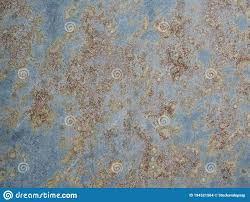rust: (41, 40, 116, 139), (135, 139, 201, 176), (4, 22, 39, 66), (162, 39, 193, 85), (155, 8, 191, 33)
